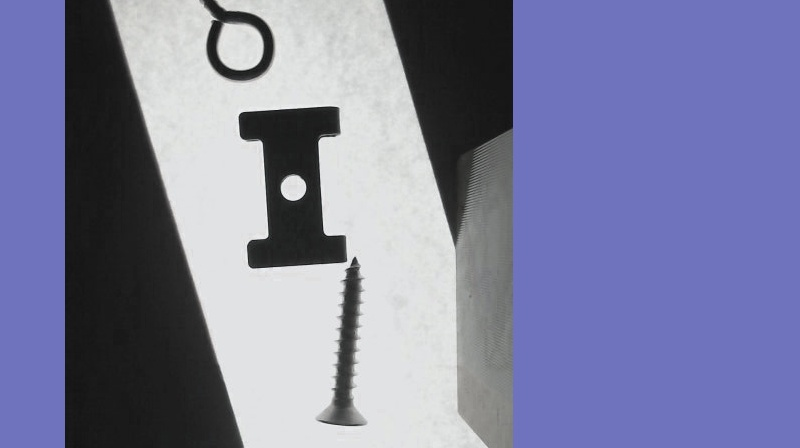O001: (172, 0, 278, 86)
O002: (236, 98, 347, 270)
S001: (312, 251, 368, 429)
